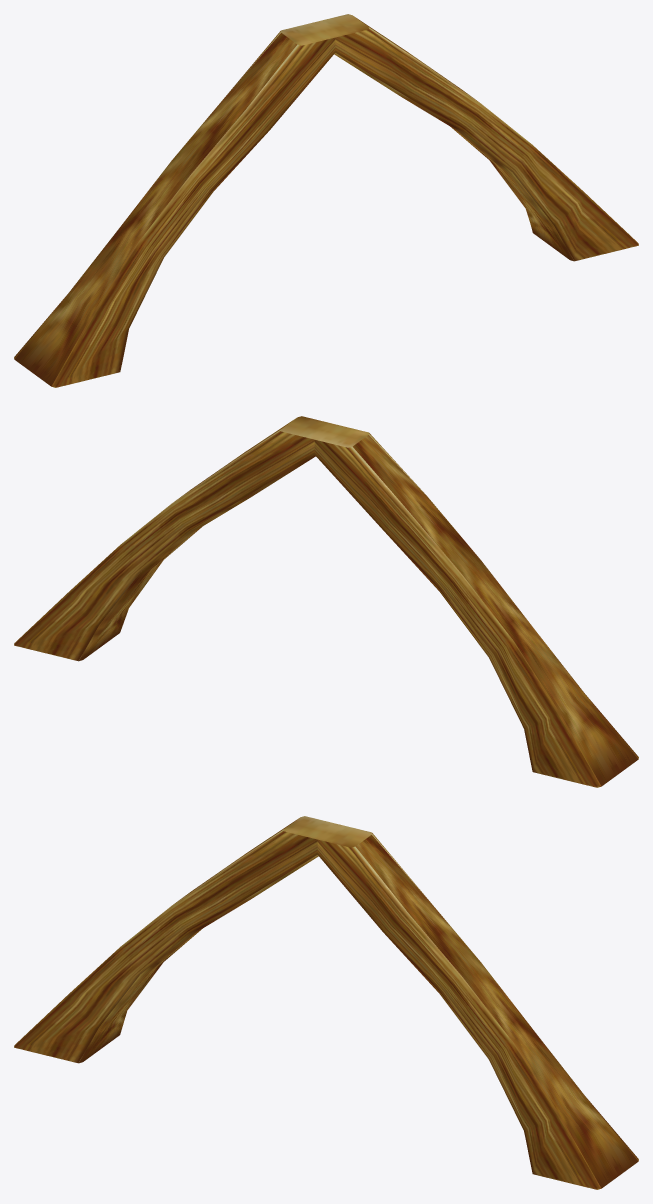
Rendered from a_hari_1.glb.
The picture shows the model from 3 angles, top to bottom: view 1: azimuth 30°, elevation 25°; view 2: azimuth 150°, elevation 25°; view 3: azimuth 330°, elevation 25°; orthographic projection.
Visible parts, largest first — view 1: a_hari_1; view 2: a_hari_1; view 3: a_hari_1.
Boxes of the visible parts, x1,y1,x2,y2 form: a_hari_1: (14, 14, 638, 387); a_hari_1: (14, 416, 638, 787); a_hari_1: (14, 816, 638, 1189).
Bounding box in the file's own units: 1136 × 500 × 140.
1 material, 1 textured.
